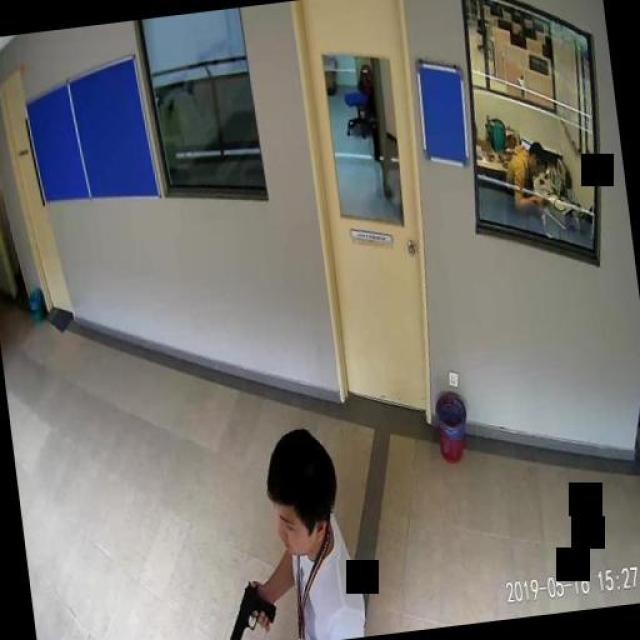gun: (220, 579, 279, 640)
